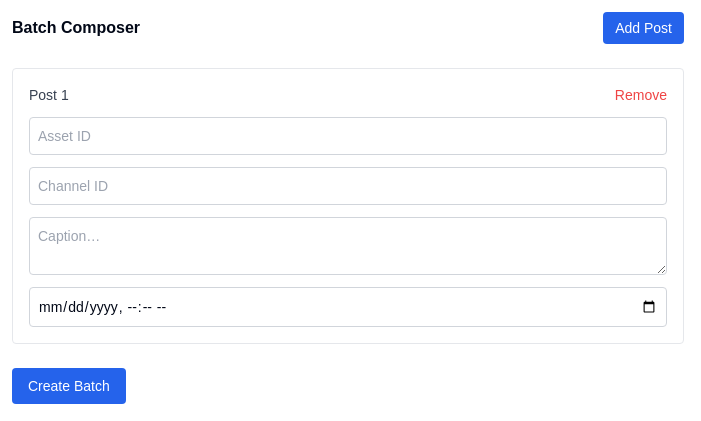
Scenario: Batch publish flow integration › shows multiple post statuses simultaneously
Click the button "Create Batch" at [69, 386], box [12, 368, 126, 404]
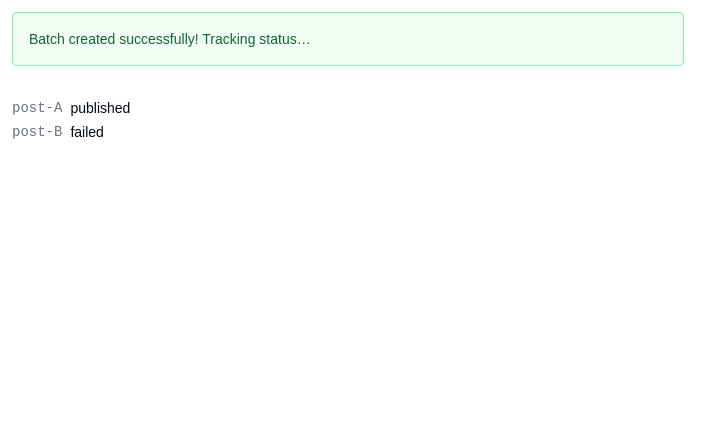
Expected: the text "Batch created successfully! Tracking status…" is shown, [12, 12, 684, 66]
Expected: the text "published" is shown, [70, 98, 130, 118]
Expected: the text "failed" is shown, [70, 122, 104, 142]
